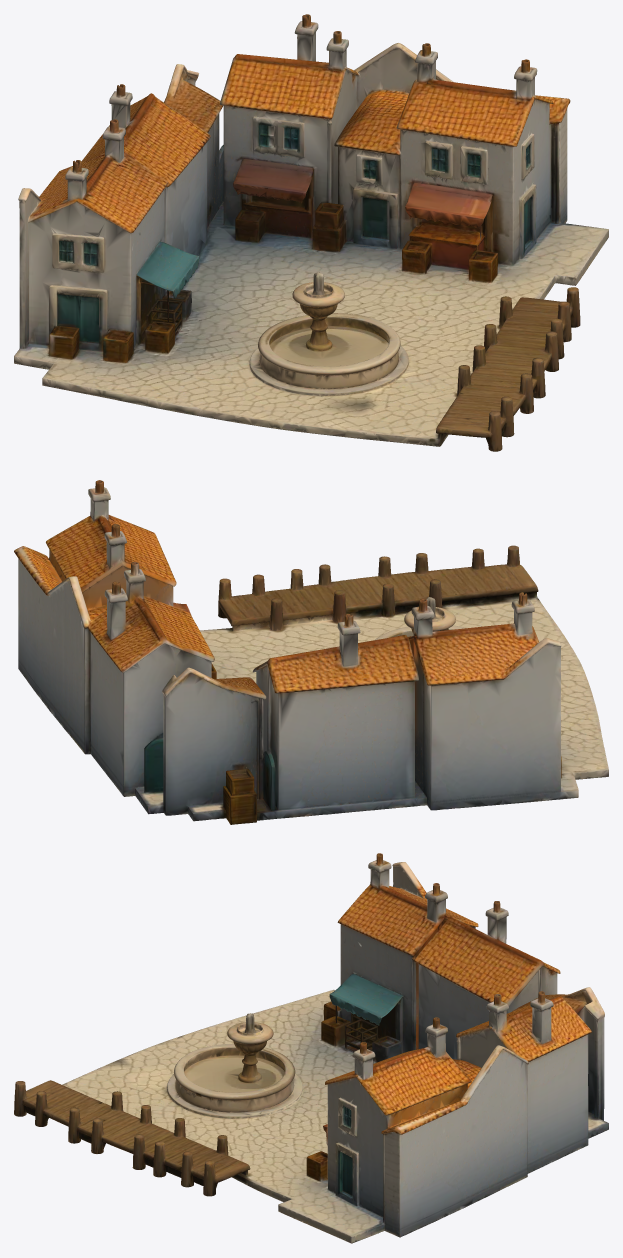
File: harbour-visual-m.glb
3 views of the same model, one above another, from view 1: azimuth 30°, elevation 25°; view 2: azimuth 150°, elevation 25°; view 3: azimuth 270°, elevation 25° (orthographic). The views are drawn at different scales.
Parts seen in each view (by area): view 1: node_0; view 2: node_0; view 3: node_0.
Part boxes in pixels (x1,y1,x2,y2): node_0: (14,14,608,451); node_0: (14,480,608,824); node_0: (14,853,608,1243).
Size of the model in its own units: 1.12 by 0.3528 by 1.13.
1 material, 1 textured.
